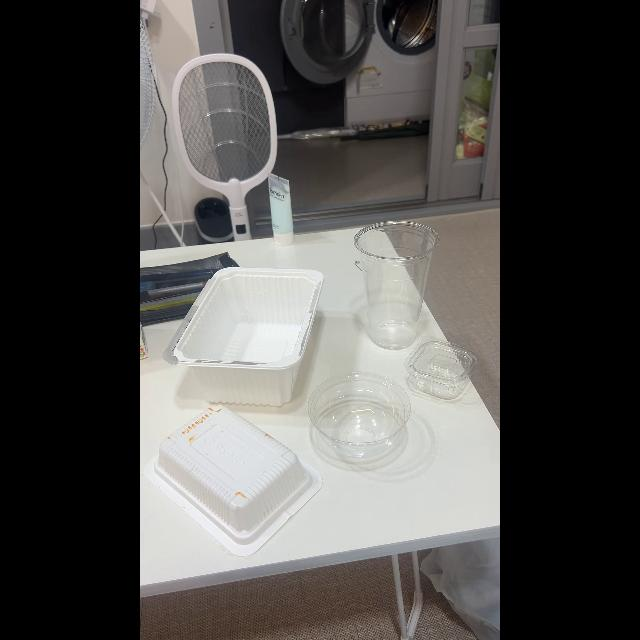clean: (171, 269, 319, 406), (312, 372, 412, 466), (357, 225, 427, 347), (415, 351, 479, 403)
dirty: (158, 406, 302, 520)
